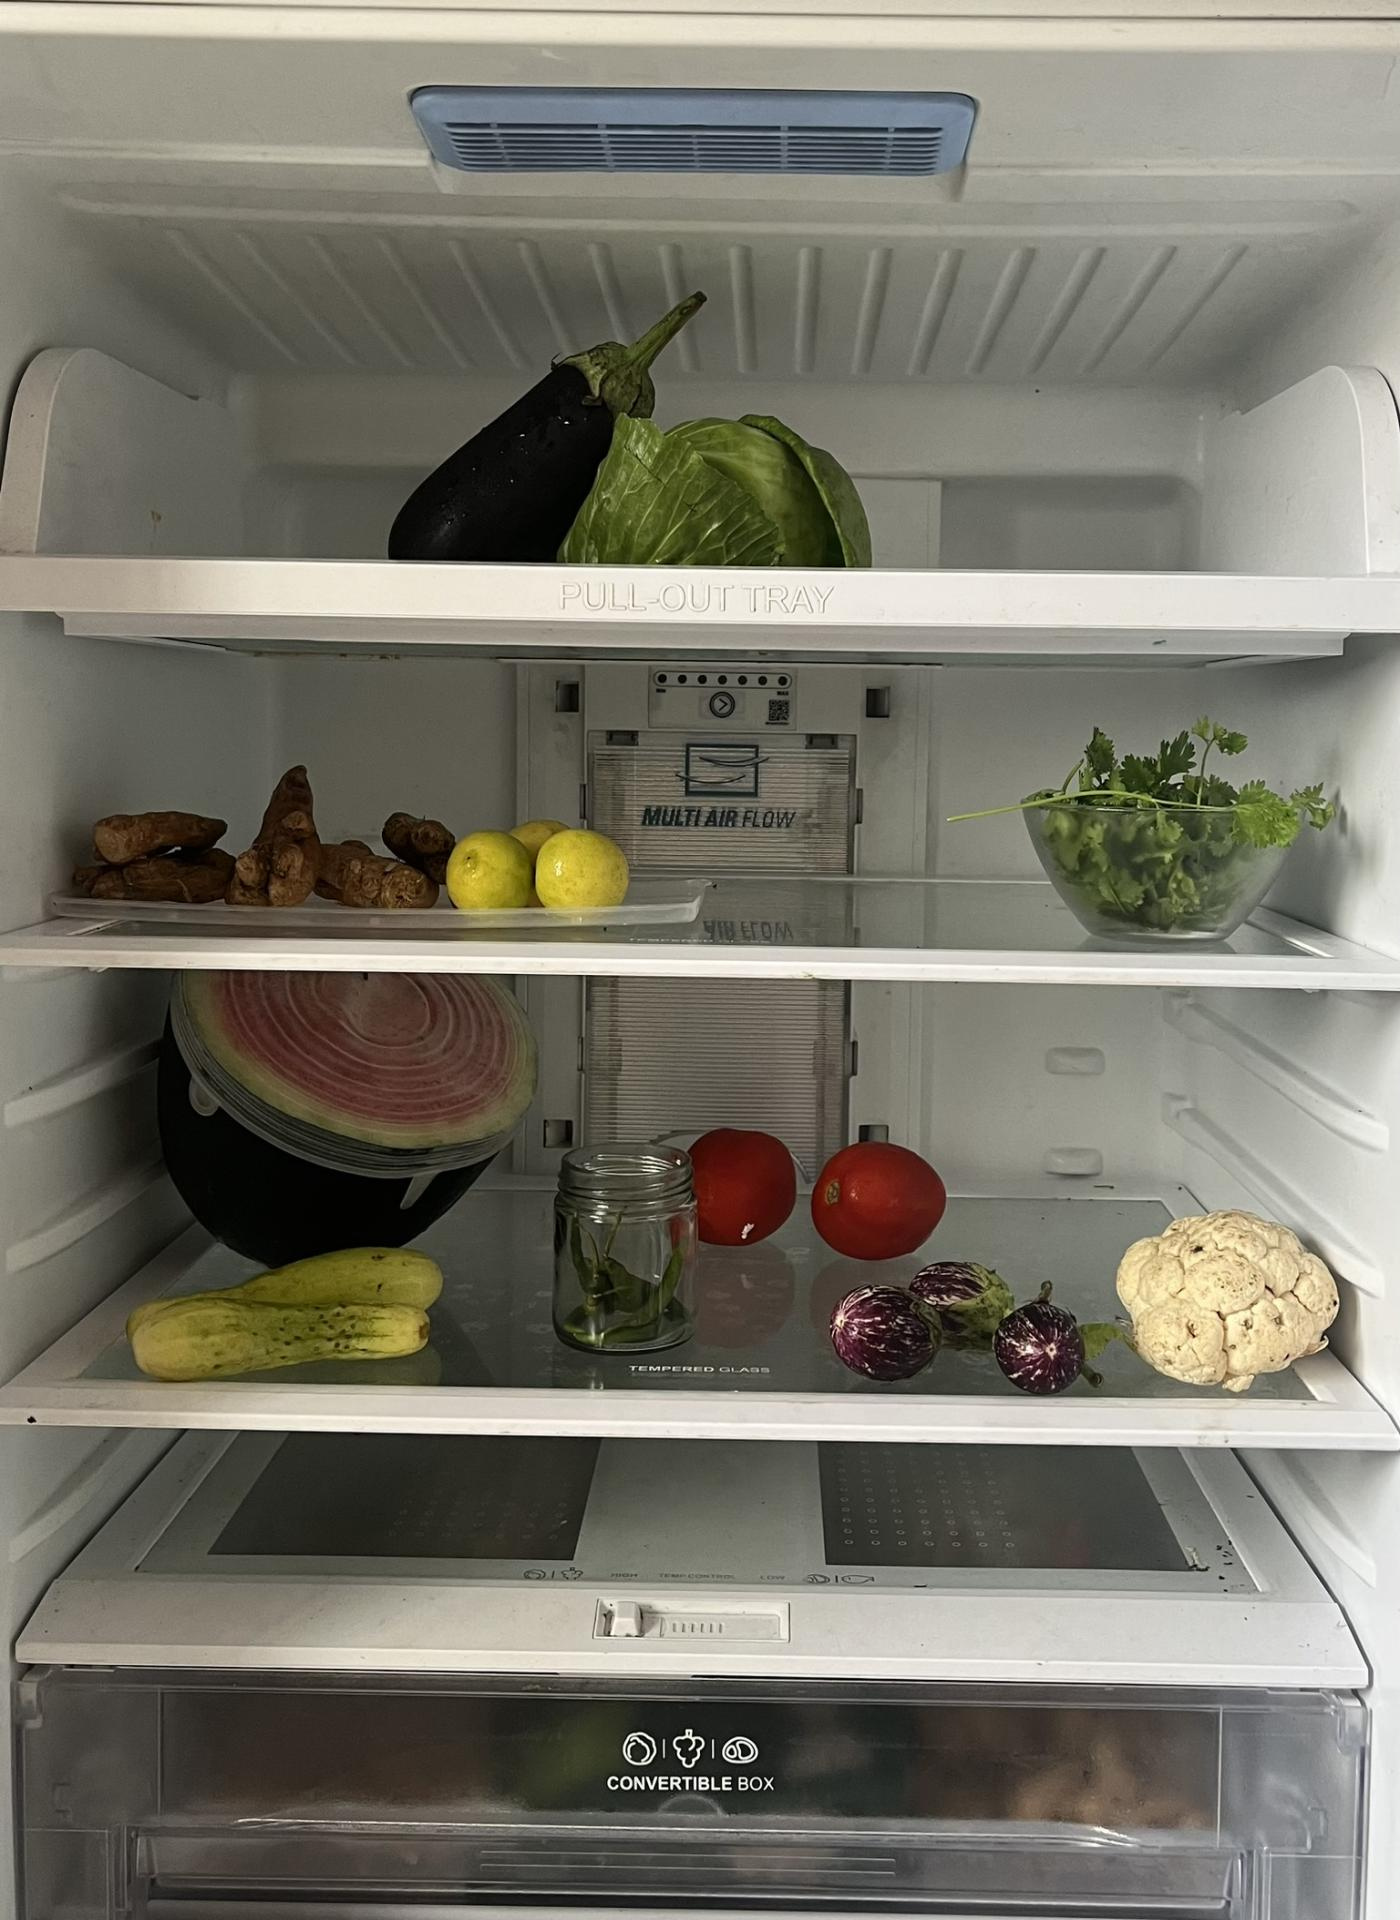cabbage: (592, 413, 872, 565)
cauliflower: (1121, 1191, 1340, 1385)
chillies: (565, 1219, 690, 1357)
coriander: (1051, 716, 1282, 932)
cucumber: (134, 1251, 452, 1365)
ginger: (82, 763, 450, 915)
lemon: (447, 821, 635, 912)
tomato: (702, 1128, 963, 1260)
watermelon: (170, 959, 538, 1249)
